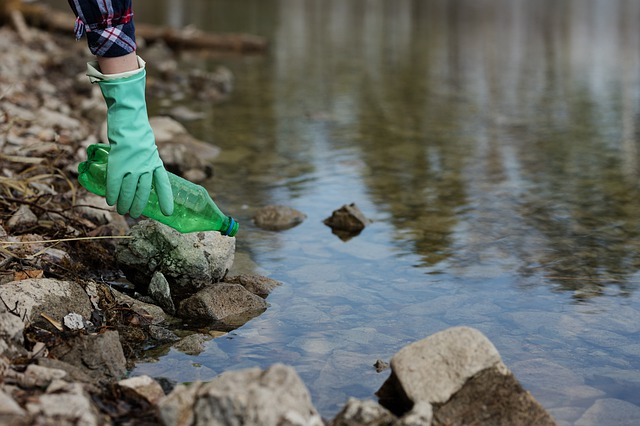plastic_bottle: (73, 142, 242, 240)
